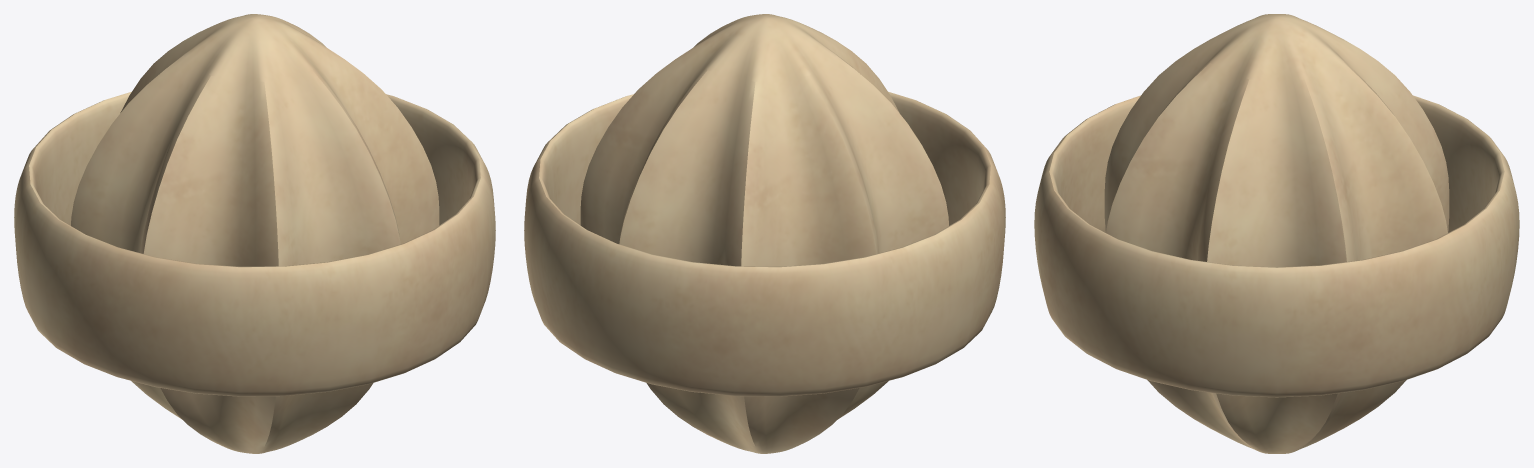
File: maps exp.glb
3 views of the same model, side by side, from view 1: azimuth 30°, elevation 25°; view 2: azimuth 150°, elevation 25°; view 3: azimuth 270°, elevation 25° (orthographic).
Visible parts, largest first — view 1: posta_l; view 2: posta_l; view 3: posta_l.
Boxes of the visible parts, x1,y1,x2,y2 form: posta_l: (14, 14, 495, 453); posta_l: (524, 14, 1005, 453); posta_l: (1034, 14, 1519, 453).
Size of the model in its own units: 0.4037 by 0.397 by 0.4037.
1 material, 1 textured.
